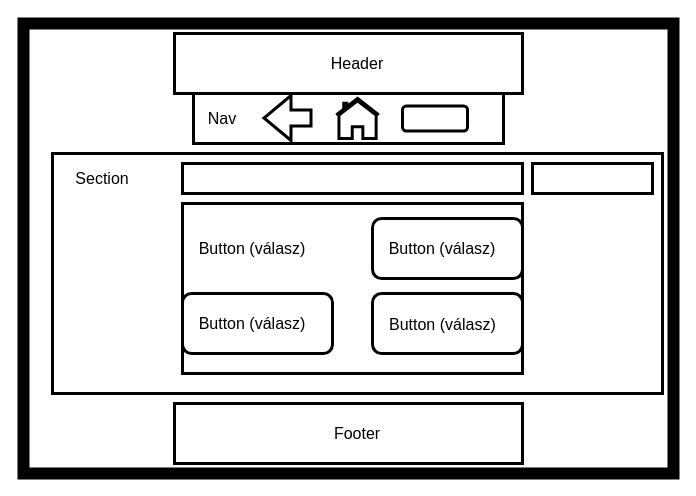
The diagram is 696 pixels wide and 496 high, and some of its shapes have lost their labels. The centre of each missing label's shape, as x and y in pixels:
"Article (kérdés)" belongs at (352,178).
"Aside" belongs at (592,178).
